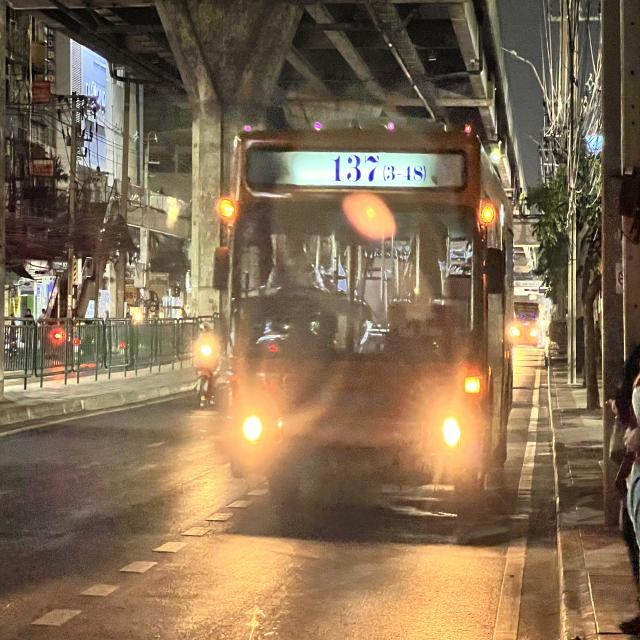BMTA-bus: (219, 110, 515, 524)
Bus-Line-Number: (329, 150, 428, 186)
Destination-Sign-Extra-Bus: (386, 298, 458, 359)
